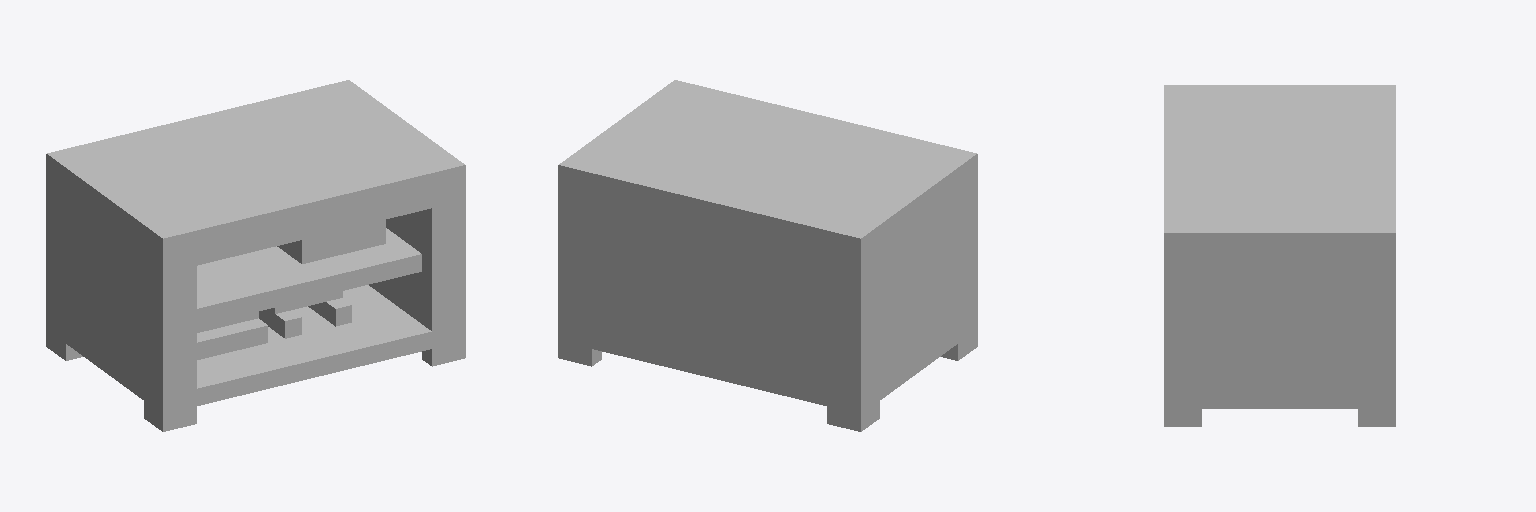
File: TV Table.obj
3 renders of one model, left to right at view 1: azimuth 30°, elevation 25°; view 2: azimuth 150°, elevation 25°; view 3: azimuth 270°, elevation 25°, orthographic.
Visible parts, largest first — view 1: Model; view 2: Model; view 3: Model.
Part boxes in pixels (x1,y1,x2,y2): Model: (46,80,465,431); Model: (558,80,977,431); Model: (1164,85,1395,426).
Size of the model in its own units: 32 by 19.56 by 21.33.